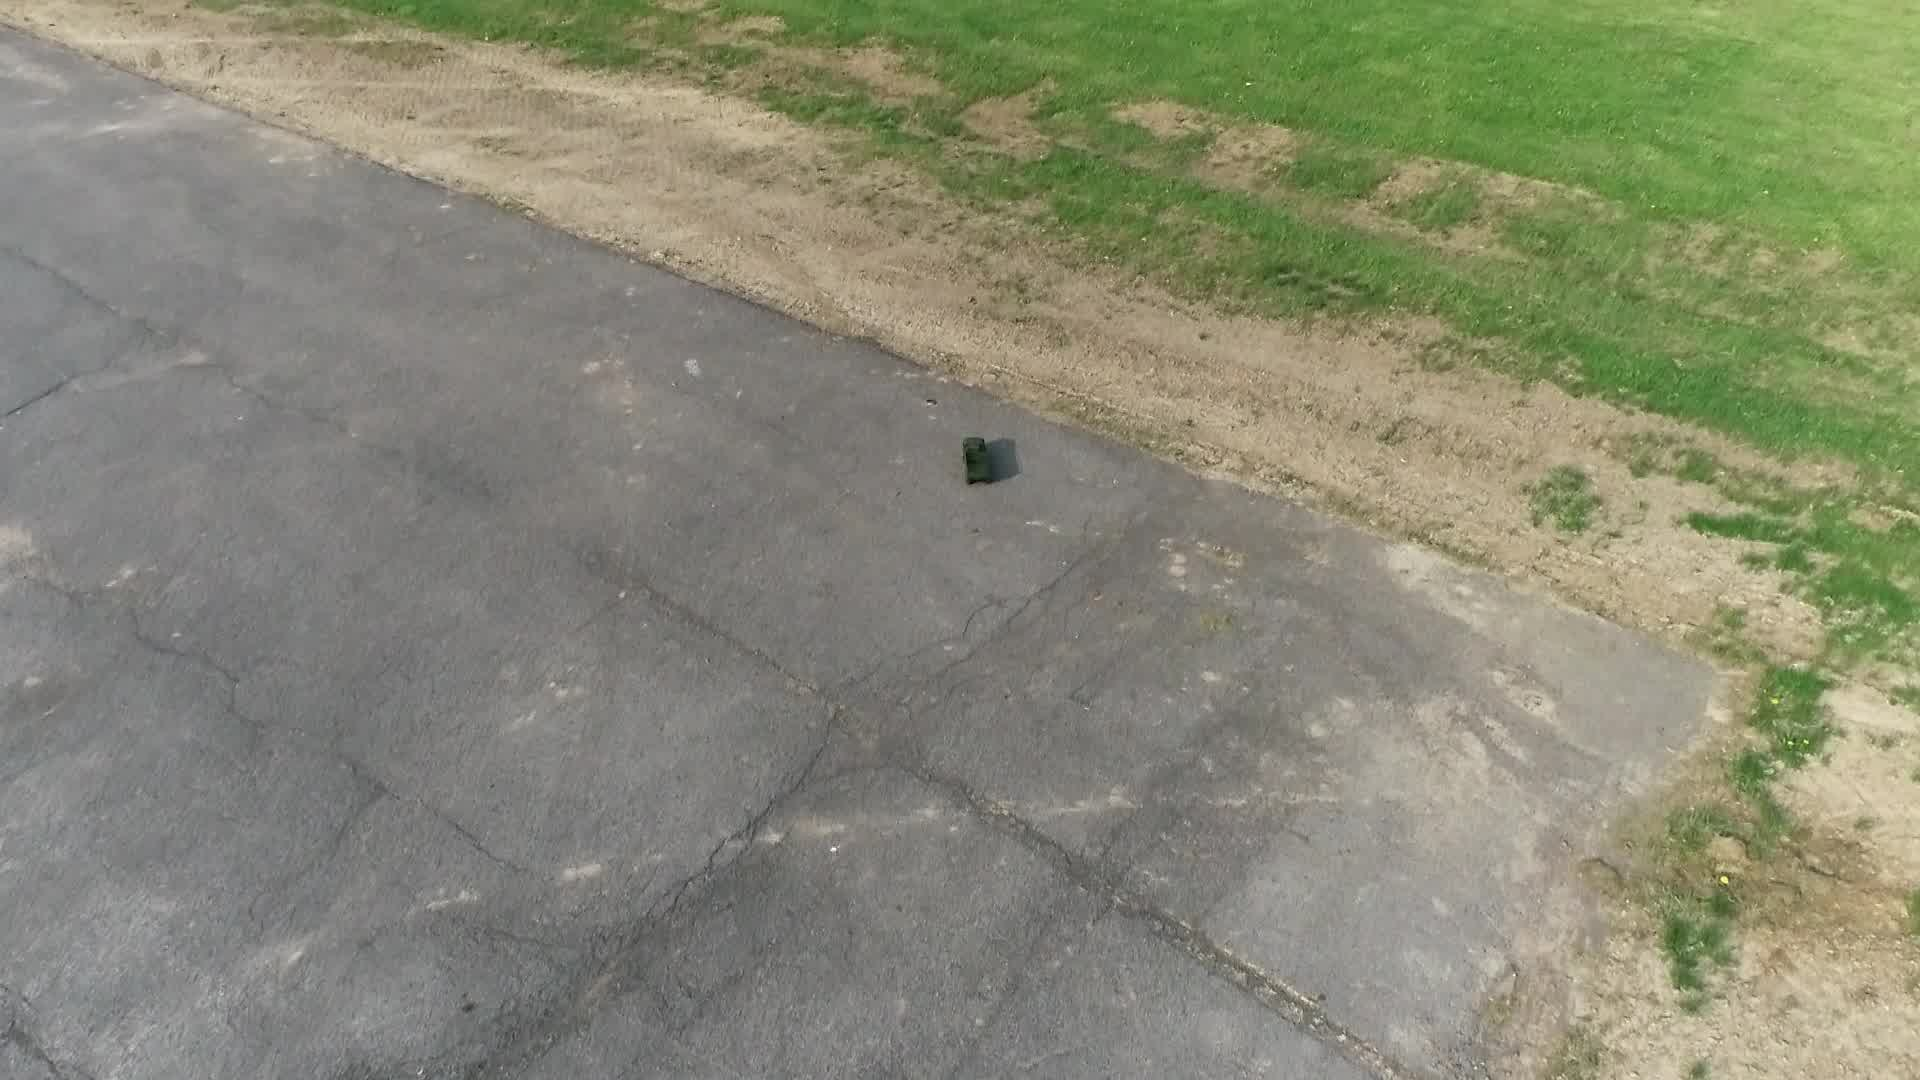transporter9: (957, 433, 1002, 489)
